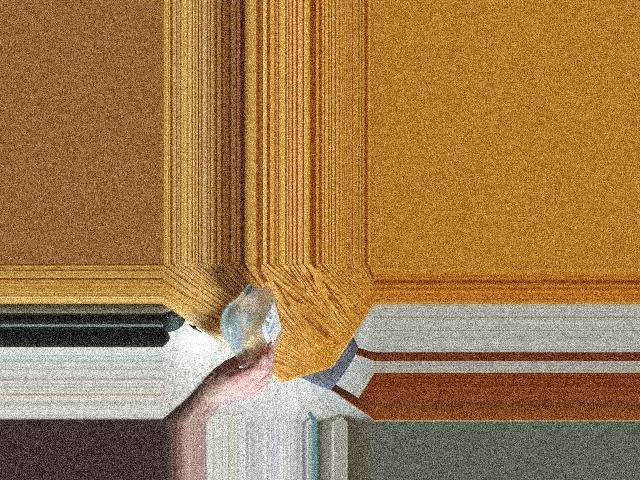cheese: (228, 289, 279, 380)
